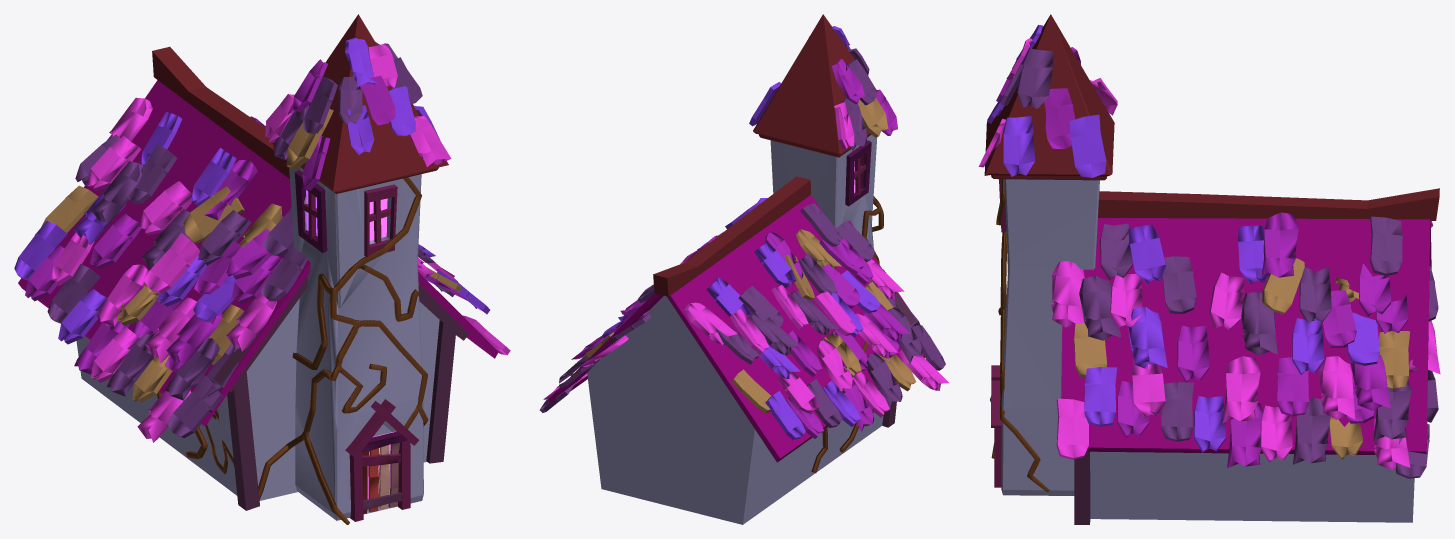
Rendered from curch.glb.
The picture shows the model from 3 angles, left to right: view 1: azimuth 30°, elevation 25°; view 2: azimuth 150°, elevation 25°; view 3: azimuth 270°, elevation 25°; orthographic projection. The views are drawn at different scales.
Visible parts, largest first — view 1: Cube.002; view 2: Cube.002; view 3: Cube.002.
Part boxes in pixels (box(x1,y1,x2,y2)): Cube.002: box(14, 14, 510, 524); Cube.002: box(539, 14, 949, 524); Cube.002: box(978, 14, 1440, 524).
Bounding box in the file's own units: 5.62 × 7.41 × 6.66.
Materials: 13 (6 with a texture image).
